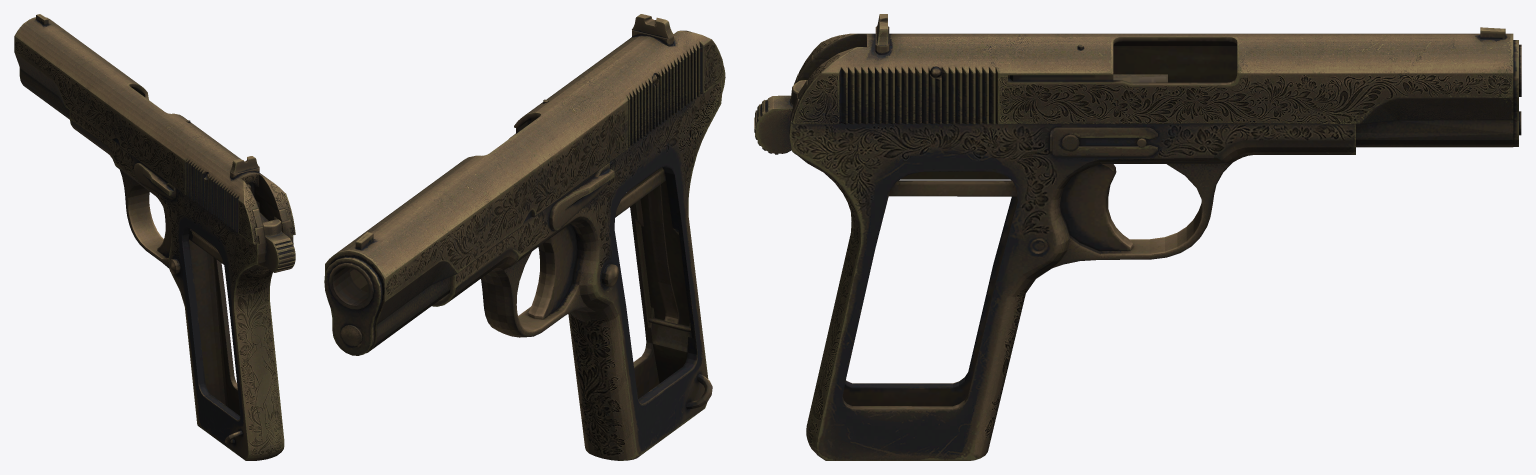
The picture shows the model from 3 angles, left to right: view 1: azimuth 30°, elevation 25°; view 2: azimuth 150°, elevation 25°; view 3: azimuth 270°, elevation 25°; orthographic projection. The views are drawn at different scales.
Parts seen in each view (by area): view 1: TW_5b3b713c5acfc4330140bd8d_PZ_Import; view 2: TW_5b3b713c5acfc4330140bd8d_PZ_Import; view 3: TW_5b3b713c5acfc4330140bd8d_PZ_Import.
Boxes of the visible parts, left/top/right/bottom form: TW_5b3b713c5acfc4330140bd8d_PZ_Import: left=14, top=14, right=295, bottom=460; TW_5b3b713c5acfc4330140bd8d_PZ_Import: left=324, top=14, right=725, bottom=460; TW_5b3b713c5acfc4330140bd8d_PZ_Import: left=754, top=14, right=1521, bottom=460.
Bounding box in the file's own units: 0.0136 × 0.1169 × 0.0718.
1 material, 1 textured.
